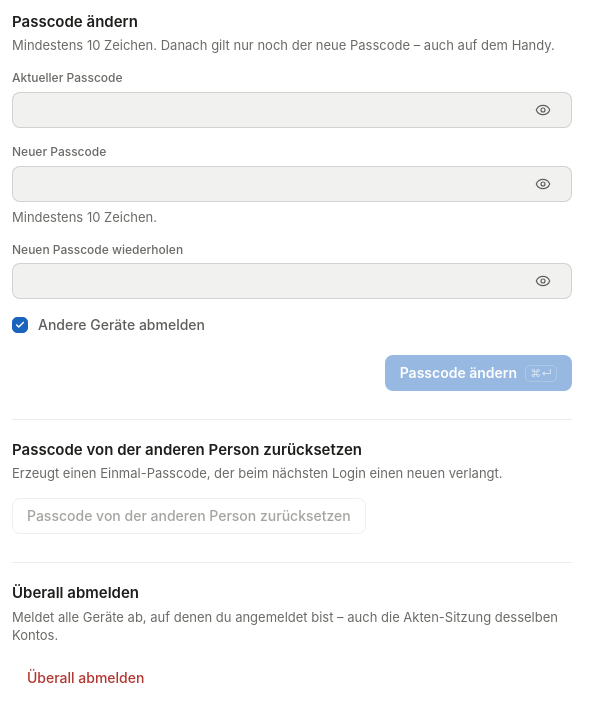
Scenario: Passcode › Wiederholung weicht ab → Fehler
This screenshot has width=589, height=725.
Type "alterpasscode" into the password field labelled "Aktueller Passcode" at [272, 110], box left=25, top=93, right=519, bottom=127
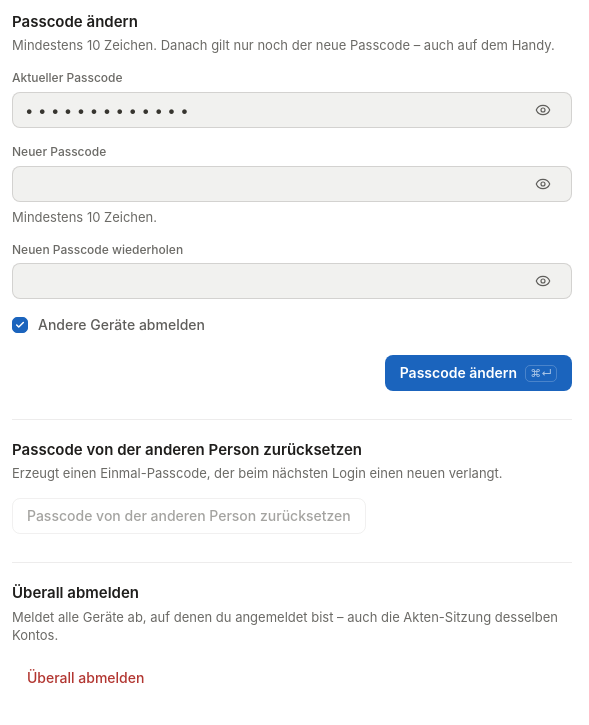
Type "neuerpasscode1" into the password field labelled "Neuer Passcode" at [272, 184], box left=25, top=167, right=519, bottom=201
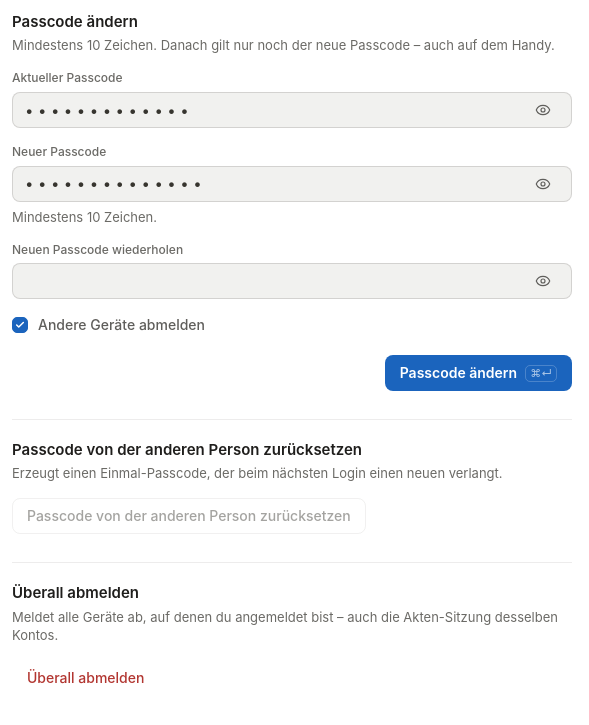
Type "neuerpasscode2" into the password field labelled "Neuen Passcode wiederholen" at [272, 281], box left=25, top=264, right=519, bottom=298
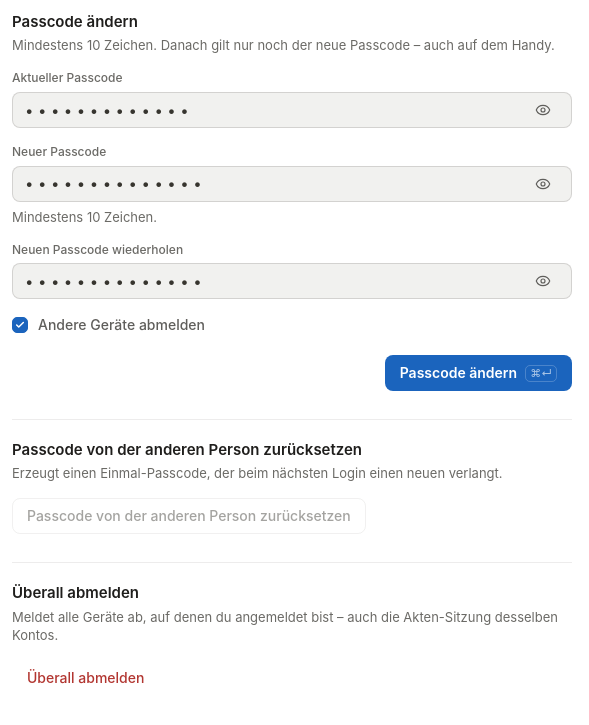
Click the button "Passcode ändern ⌘↵" at [478, 373], box left=385, top=355, right=572, bottom=391
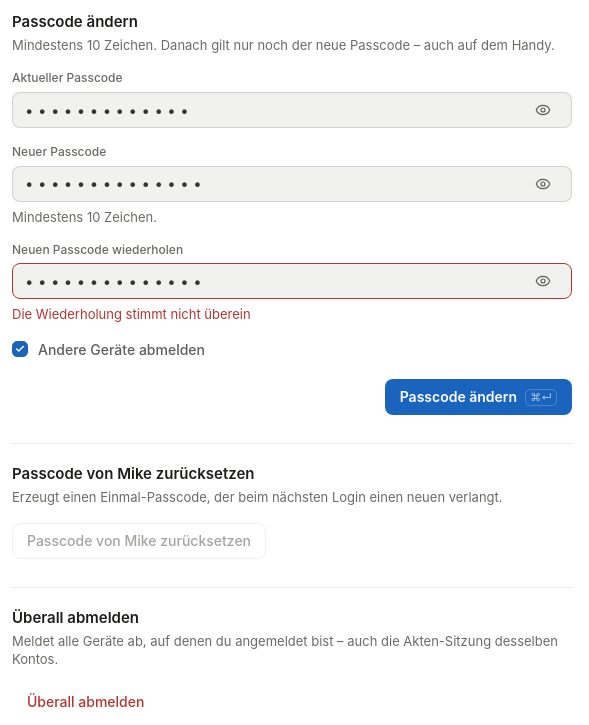
Expected: the message shows "Wiederholung", left=12, top=306, right=251, bottom=322
